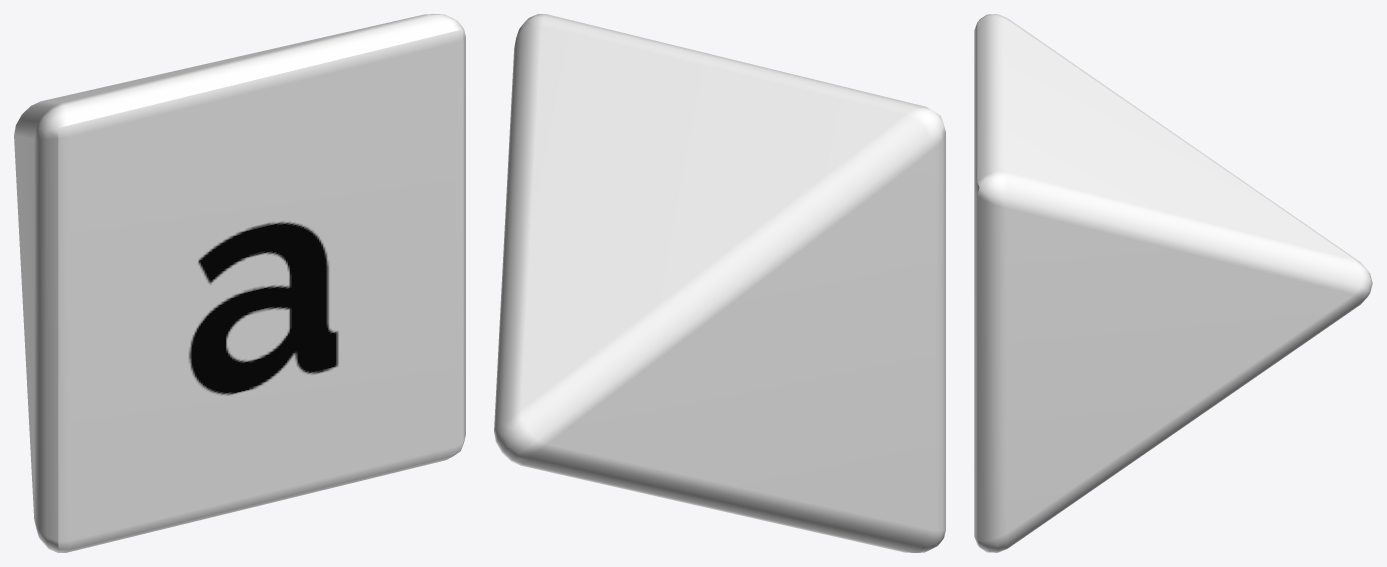
File: SM_key.fbx
3 renders of one model, left to right at view 1: azimuth 30°, elevation 25°; view 2: azimuth 150°, elevation 25°; view 3: azimuth 270°, elevation 25°, orthographic. The views are drawn at different scales.
Visible parts, largest first — view 1: pCube22; view 2: pCube22; view 3: pCube22.
Boxes of the visible parts, x1=… form: pCube22: x1=14, y1=14, x2=465, y2=552; pCube22: x1=494, y1=14, x2=945, y2=552; pCube22: x1=974, y1=14, x2=1372, y2=552.
Size of the model in its own units: 1.05 by 1.05 by 1.
Materials: 1 (1 with a texture image).
